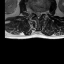CCS_normal: (37, 8, 39, 21)
LFS_normal: (42, 9, 44, 16)
LLS_normal: (39, 9, 42, 18)
RFS_normal: (32, 7, 35, 16)
RLS_normal: (35, 9, 37, 17)
